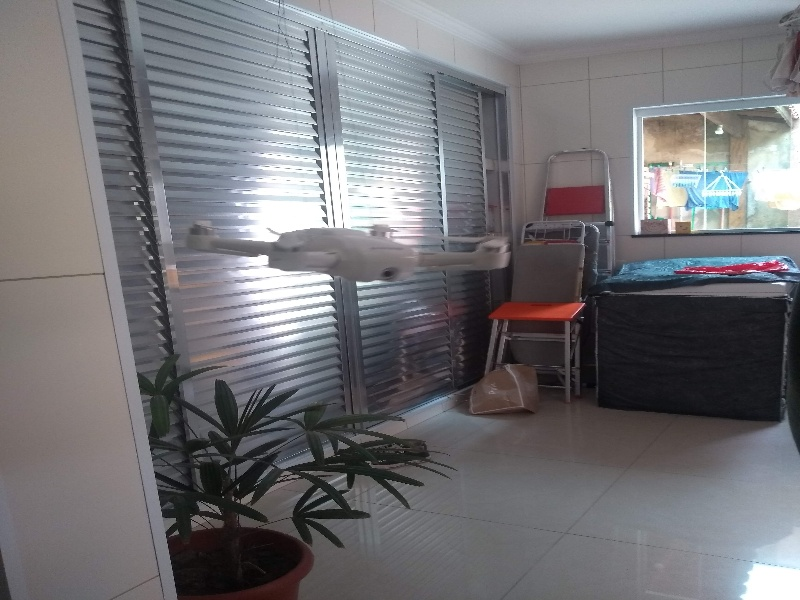drone: (178, 198, 516, 294)
